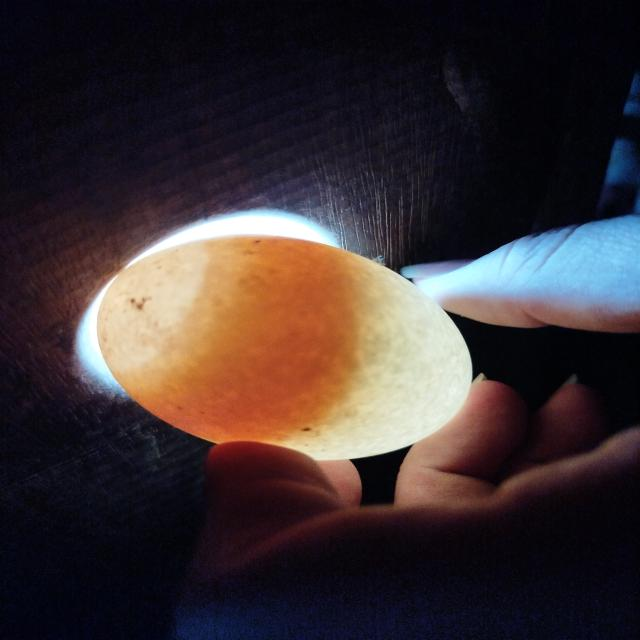Camara de Ar: (97, 242, 210, 369)
